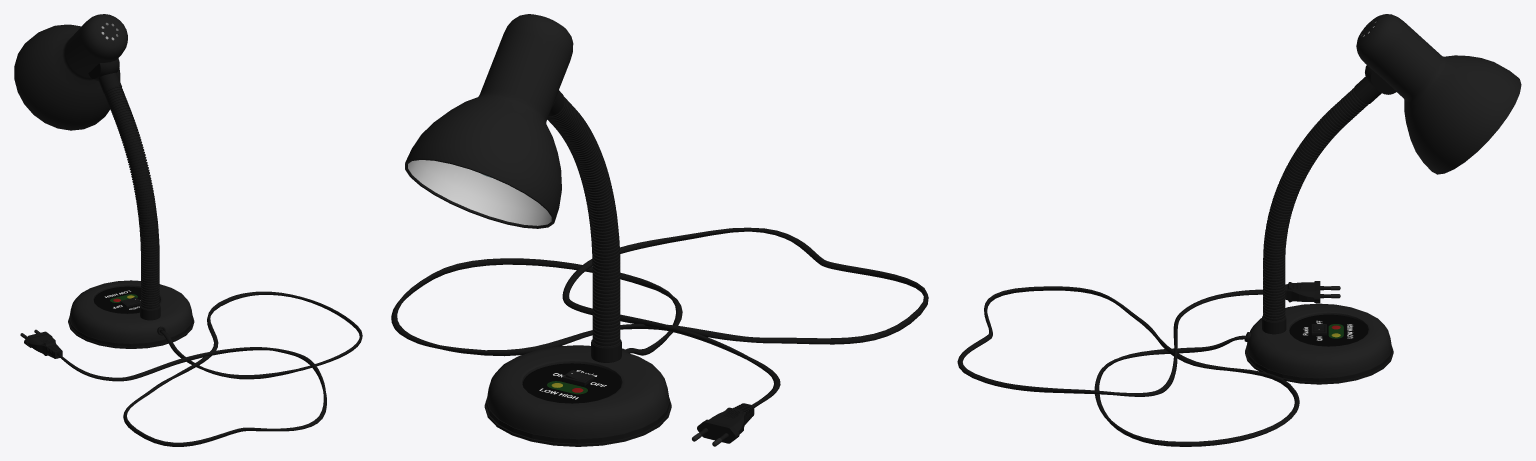
The model's file is Table Lamp.FBX.
3 views of the same model, side by side, from view 1: azimuth 30°, elevation 25°; view 2: azimuth 150°, elevation 25°; view 3: azimuth 270°, elevation 25° (orthographic). The views are drawn at different scales.
Visible parts, largest first — view 1: Lamp_Metal_01, Lamp_Cord_Plastic_01, Lamp_Base_01, Lamp_Plastic_02, Lamp_Base_08, Lamp_Base_04, Lamp_Plastic_01, Lamp_Plug_Plastic_01; view 2: Lamp_Metal_01, Lamp_Base_01, Lamp_Cord_Plastic_01, Lamp_Plastic_02, Lamp_Base_08, Lamp_Base_04, Lamp_Plug_Plastic_01; view 3: Lamp_Metal_01, Lamp_Base_01, Lamp_Cord_Plastic_01, Lamp_Plastic_02, Lamp_Base_08, Lamp_Base_04, Lamp_Plastic_01, Lamp_Plug_Plastic_01.
Boxes of the visible parts, x1=… form: Lamp_Metal_01: x1=14, y1=14, x2=127, y2=130; Lamp_Cord_Plastic_01: x1=57, y1=291, x2=362, y2=446; Lamp_Base_01: x1=70, y1=280, x2=192, y2=343; Lamp_Plastic_02: x1=104, y1=86, x2=159, y2=309; Lamp_Base_08: x1=94, y1=286, x2=160, y2=313; Lamp_Base_04: x1=68, y1=315, x2=194, y2=348; Lamp_Plastic_01: x1=88, y1=58, x2=121, y2=93; Lamp_Plug_Plastic_01: x1=24, y1=331, x2=62, y2=358; Lamp_Metal_01: x1=405, y1=14, x2=573, y2=228; Lamp_Base_01: x1=487, y1=345, x2=668, y2=438; Lamp_Cord_Plastic_01: x1=391, y1=227, x2=928, y2=407; Lamp_Plastic_02: x1=547, y1=97, x2=620, y2=347; Lamp_Base_08: x1=522, y1=363, x2=621, y2=403; Lamp_Base_04: x1=484, y1=397, x2=671, y2=446; Lamp_Plug_Plastic_01: x1=697, y1=403, x2=754, y2=443; Lamp_Metal_01: x1=1356, y1=14, x2=1521, y2=174; Lamp_Base_01: x1=1247, y1=303, x2=1391, y2=378; Lamp_Cord_Plastic_01: x1=957, y1=286, x2=1299, y2=446; Lamp_Plastic_02: x1=1263, y1=88, x2=1368, y2=321; Lamp_Base_08: x1=1289, y1=314, x2=1367, y2=346; Lamp_Base_04: x1=1245, y1=345, x2=1393, y2=384; Lamp_Plastic_01: x1=1354, y1=65, x2=1396, y2=103; Lamp_Plug_Plastic_01: x1=1285, y1=281, x2=1320, y2=303.
Size of the model in its own units: 36.75 by 36.49 by 55.39.
